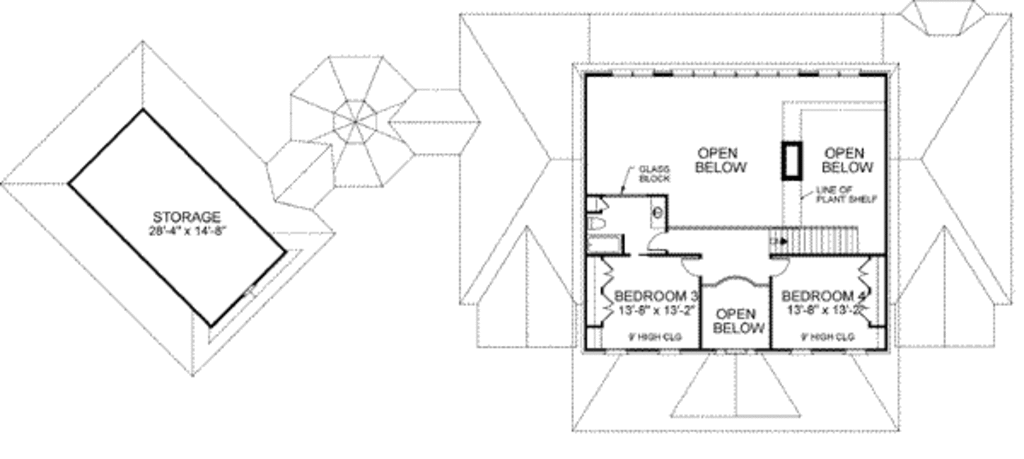door: (597, 252, 618, 293), (677, 254, 701, 283), (644, 230, 671, 254), (853, 258, 872, 287), (767, 255, 790, 276), (601, 295, 615, 322)
large_sink: (585, 215, 607, 240)
stairs: (761, 225, 865, 258)
tub: (582, 233, 625, 257)
windows: (665, 65, 802, 81)
